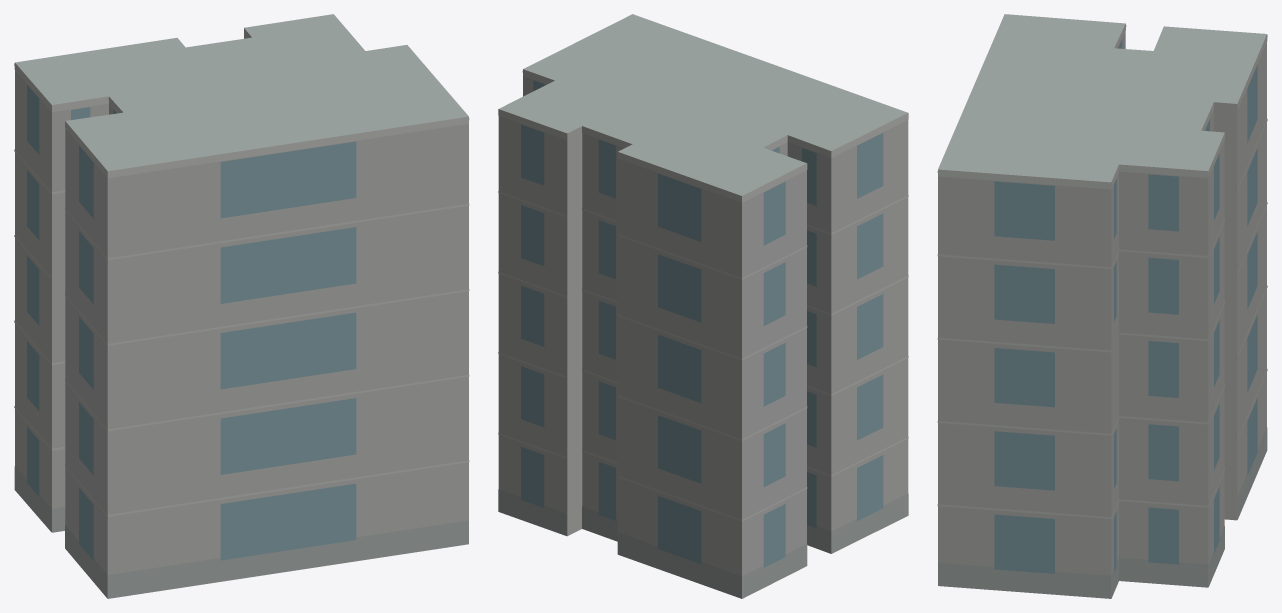
The model's file is survey-upis-32702098.glb.
3 renders of one model, left to right at view 1: azimuth 30°, elevation 25°; view 2: azimuth 150°, elevation 25°; view 3: azimuth 270°, elevation 25°, orthographic. The views are drawn at different scales.
Parts seen in each view (by area): view 1: survey-upis-32702098.tmp; view 2: survey-upis-32702098.tmp; view 3: survey-upis-32702098.tmp.
Boxes of the visible parts, x1,y1,x2,y2 form: survey-upis-32702098.tmp: (14,14,469,598); survey-upis-32702098.tmp: (498,14,908,598); survey-upis-32702098.tmp: (937,14,1267,598).
Bounding box in the file's own units: 12.56 × 14.45 × 10.38.
